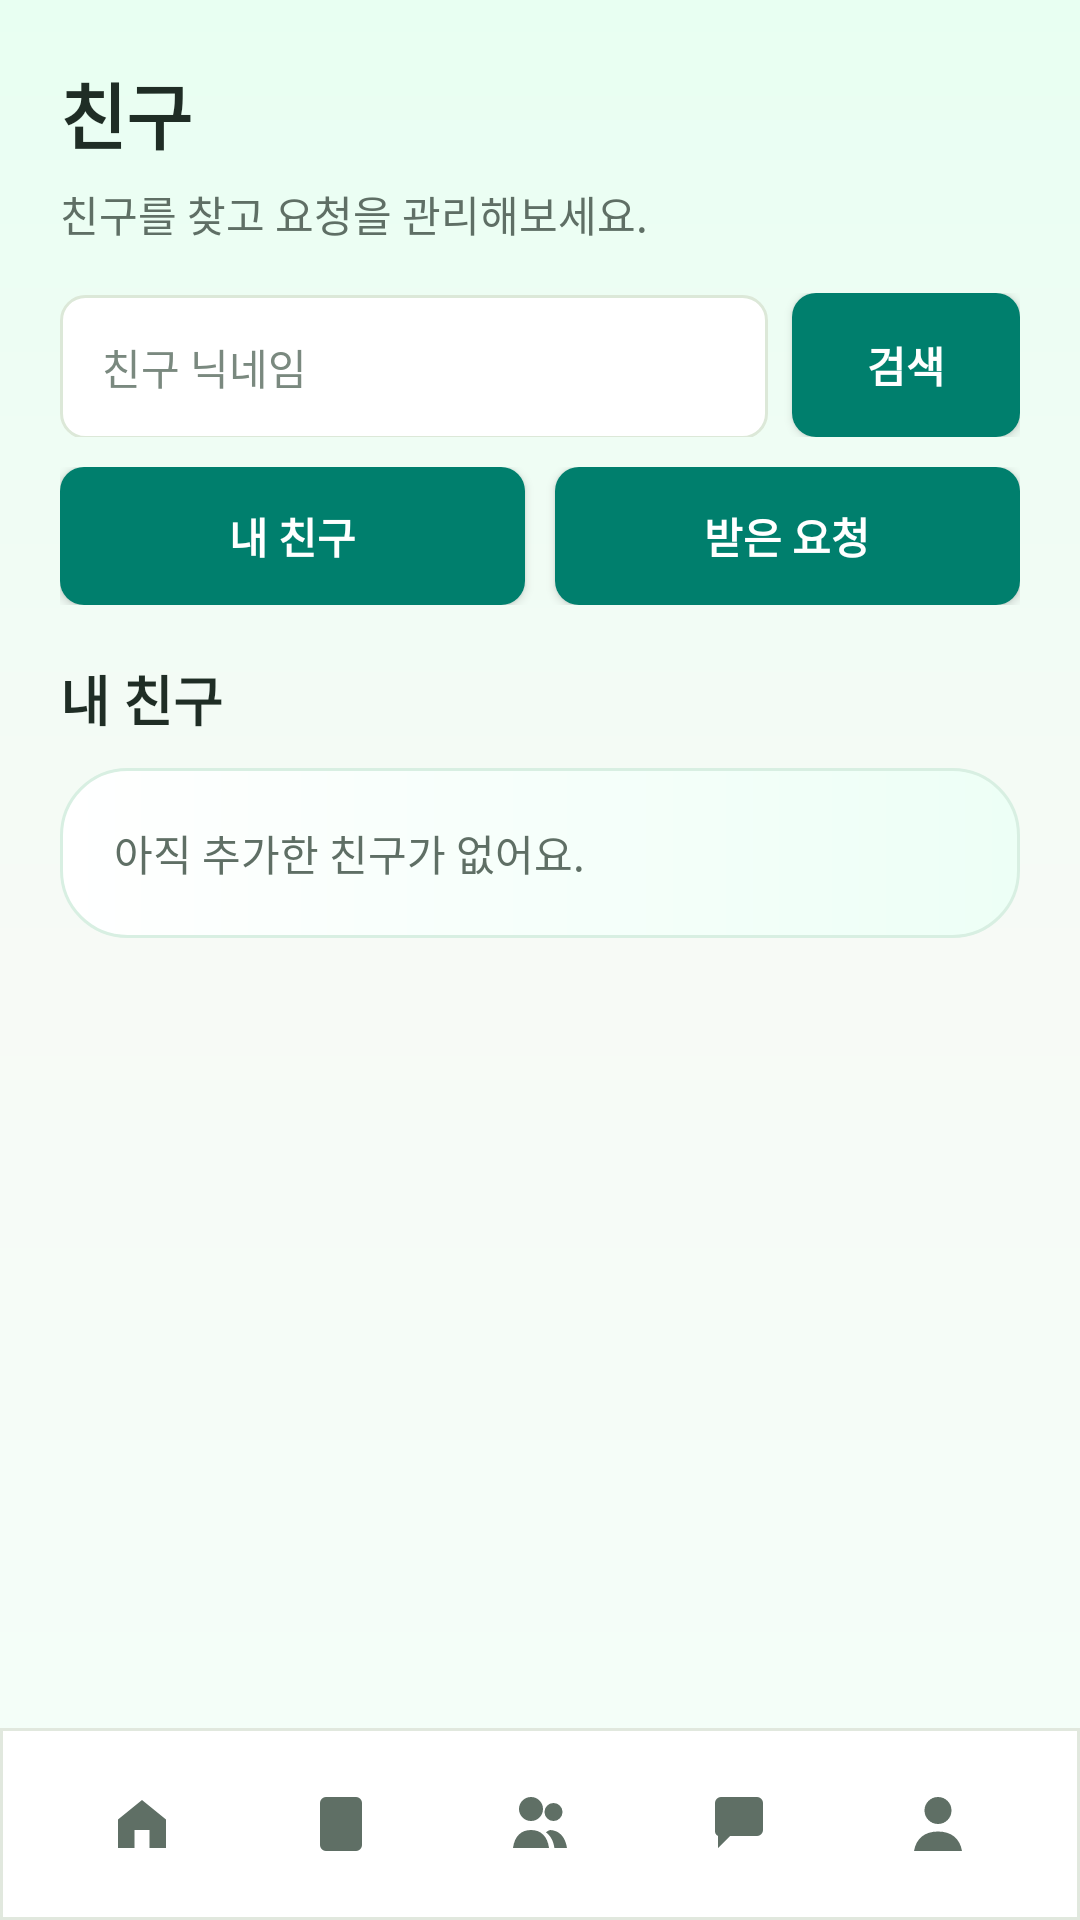

Where icons sit on this 1080px x 1920px app screen, as (x1, y1, x2, y2):
home: (118, 1800, 166, 1848)
마이페이지: (914, 1797, 962, 1851)
친구: (513, 1797, 567, 1848)
커뮤니티: (715, 1797, 763, 1848)
